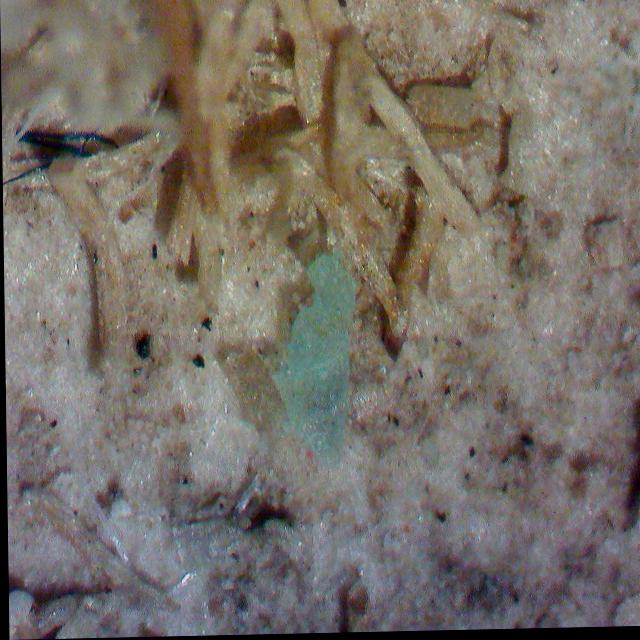microplastic: (263, 251, 356, 466)
